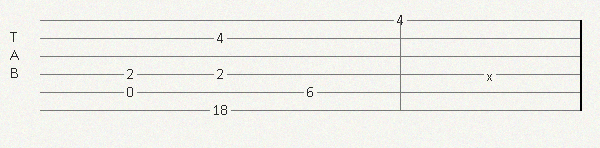0: (126, 85, 138, 99)
18: (212, 103, 232, 117)
2: (126, 67, 138, 81), (216, 67, 228, 81)
4: (216, 31, 228, 45), (396, 13, 408, 27)
6: (306, 85, 318, 99)
x: (486, 69, 497, 80)
